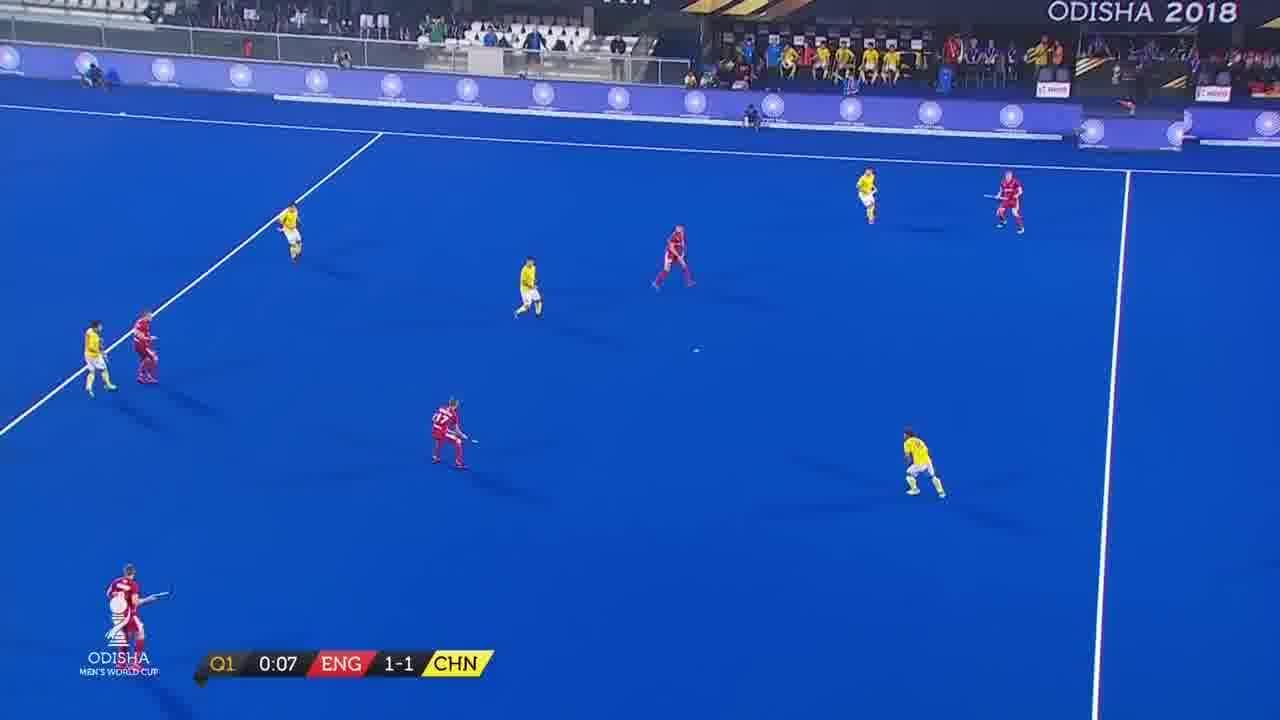ball: (692, 342, 708, 362)
